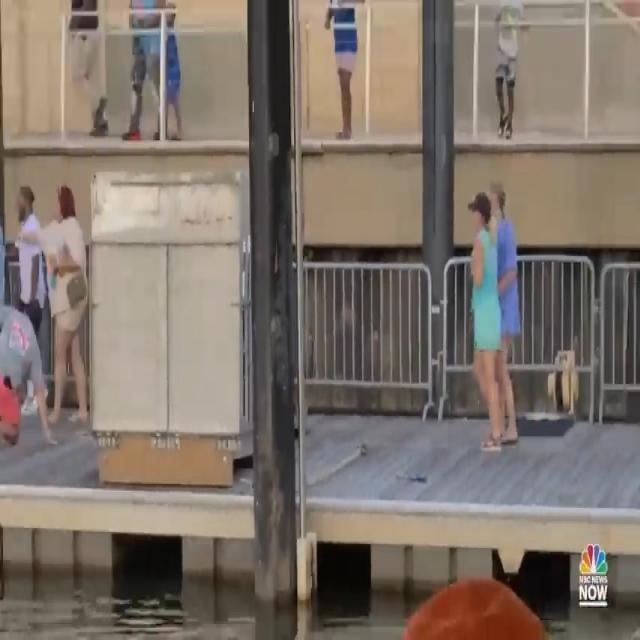fight: (0, 288, 57, 456)
non-fight: (2, 175, 92, 428), (459, 178, 533, 460)
